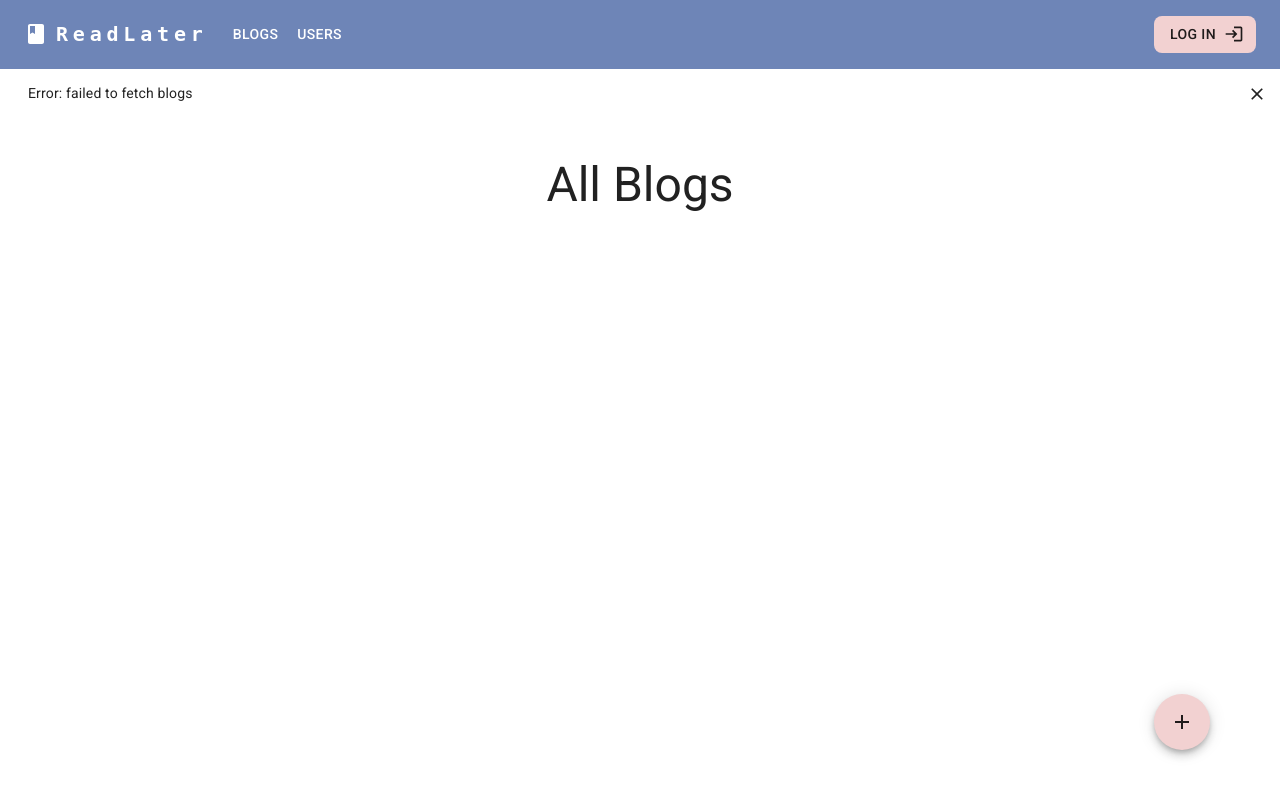
Blog app › Login › fails with wrong credentials
Click the button with class "loginBtn": (1205, 35) 1154,16 -> 1256,53
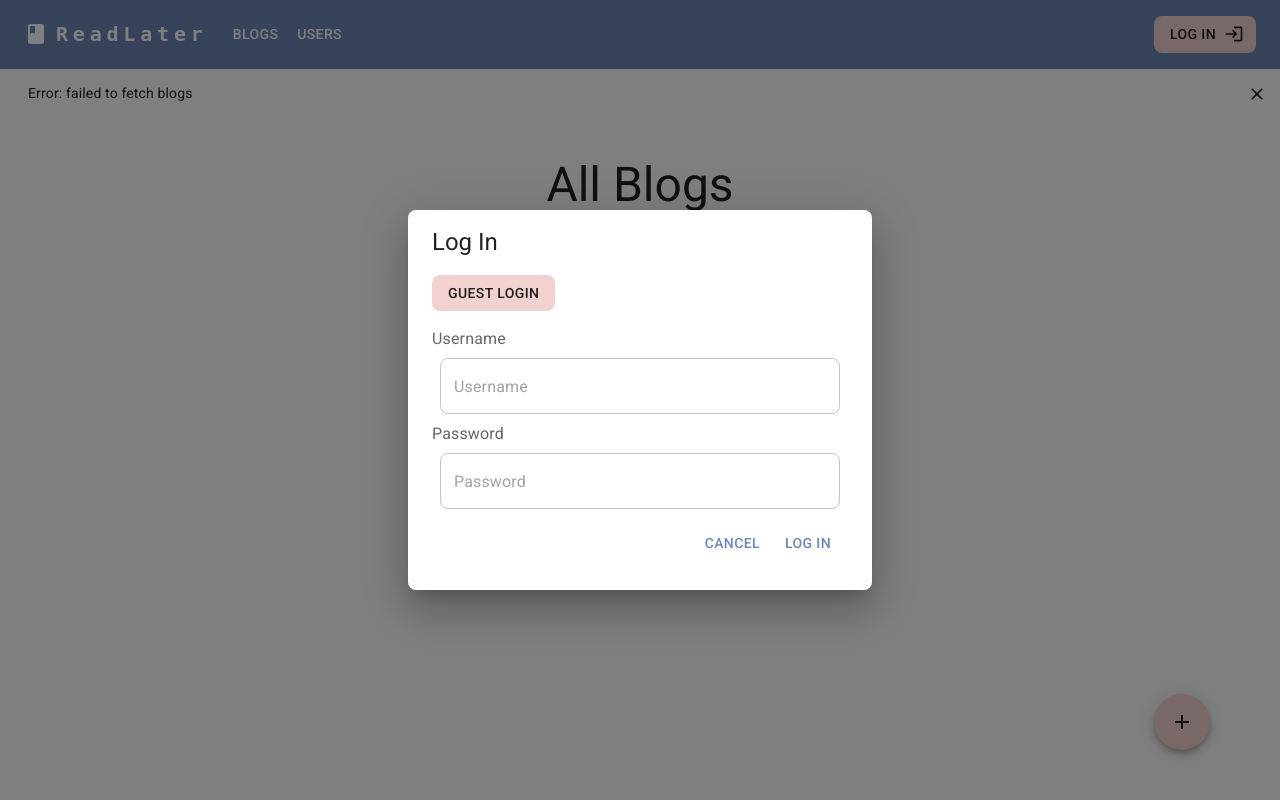
In the field with id "username": (640, 386) 440,358 -> 840,414, type "testuser"
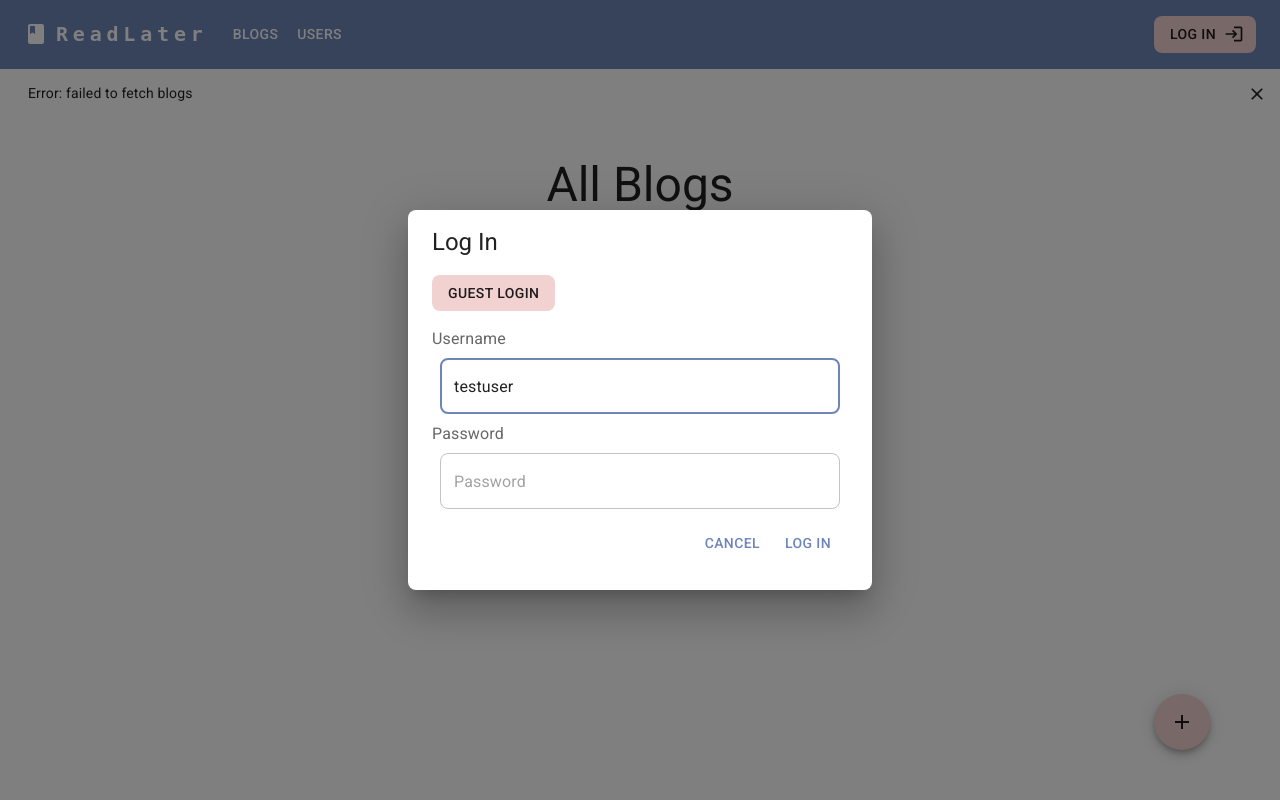
In the password field with placeholder "Password": (640, 481) 440,453 -> 840,509, type "wrongpw"
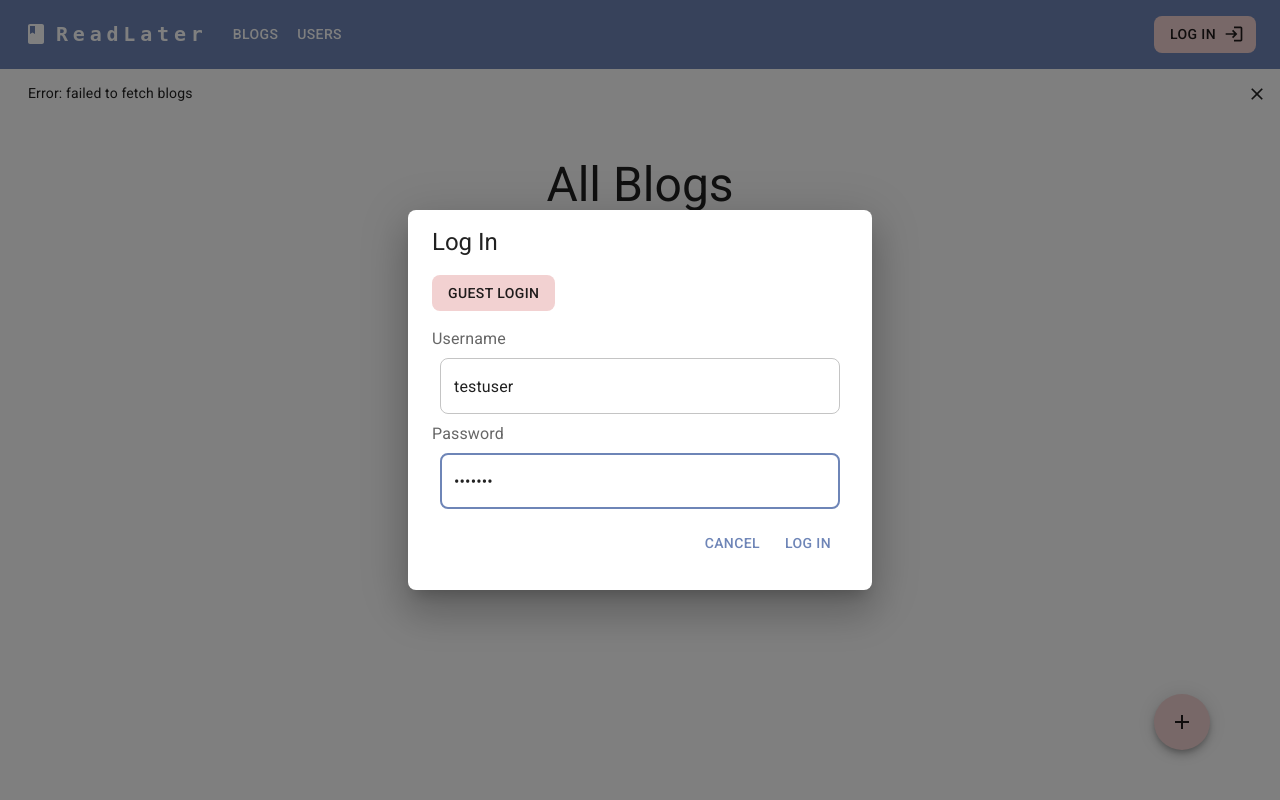
Click the button with id "loginButton": (808, 544) 776,525 -> 840,562
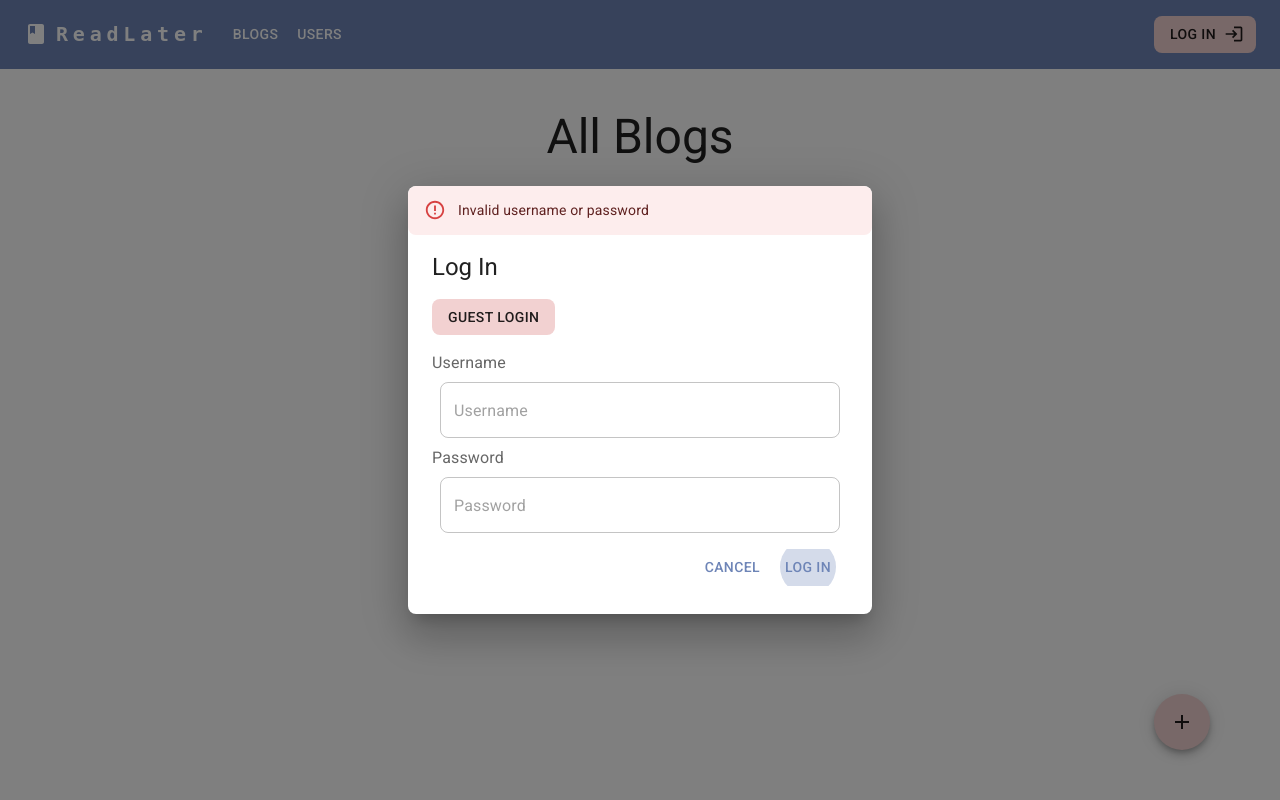
Check: the text "Invalid username or password" is shown, box 458,202 -> 649,218
